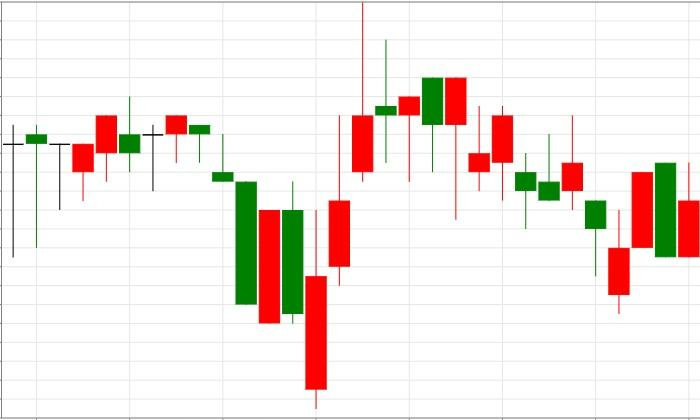hanging_man_fall: (305, 3, 467, 408)
